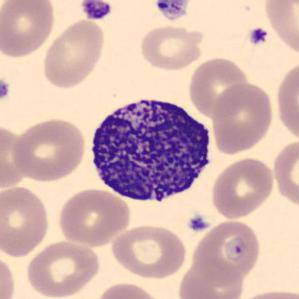Basophil: (84, 90, 217, 208)
Platelets: (152, 0, 192, 21), (77, 0, 114, 21), (247, 25, 270, 47), (186, 214, 210, 233), (0, 76, 13, 103)
RBC: (10, 115, 88, 183), (209, 80, 276, 155), (41, 17, 107, 90), (56, 186, 133, 248), (24, 238, 102, 299), (192, 218, 264, 284), (109, 222, 188, 280), (209, 155, 277, 220), (187, 55, 252, 120), (0, 183, 51, 258), (137, 23, 205, 72), (0, 0, 56, 59), (176, 260, 248, 299), (261, 0, 299, 58), (274, 57, 298, 145), (0, 122, 30, 191), (271, 138, 298, 212), (93, 280, 163, 299), (0, 249, 17, 298), (236, 288, 297, 299)
